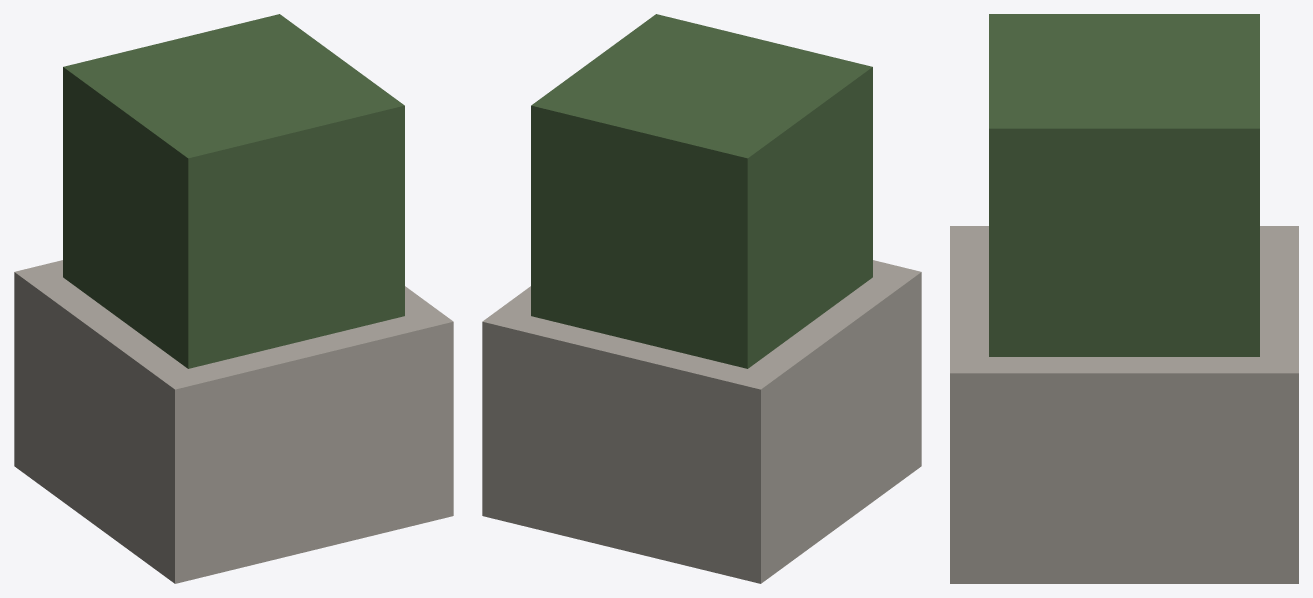
The model's file is police_bac.glb.
3 renders of one model, left to right at view 1: azimuth 30°, elevation 25°; view 2: azimuth 150°, elevation 25°; view 3: azimuth 270°, elevation 25°, orthographic. The views are drawn at different scales.
Visible parts, largest first — view 1: police_bac; view 2: police_bac; view 3: police_bac.
Boxes of the visible parts, <box> form: police_bac: <box>14,14,453,583</box>; police_bac: <box>482,14,921,583</box>; police_bac: <box>950,14,1298,583</box>.
Size of the model in its own units: 0.9 by 1.25 by 0.9.
